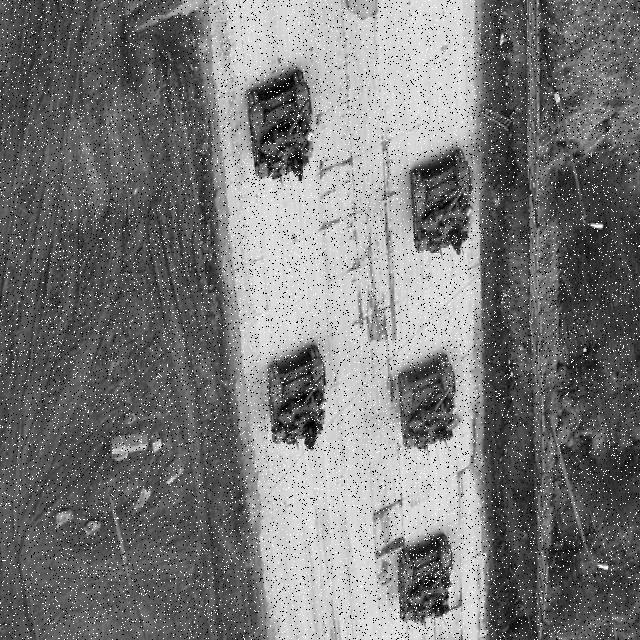MIL_MBT: (248, 66, 314, 189), (408, 147, 474, 260), (266, 345, 324, 452), (396, 353, 458, 450), (397, 536, 455, 627)
